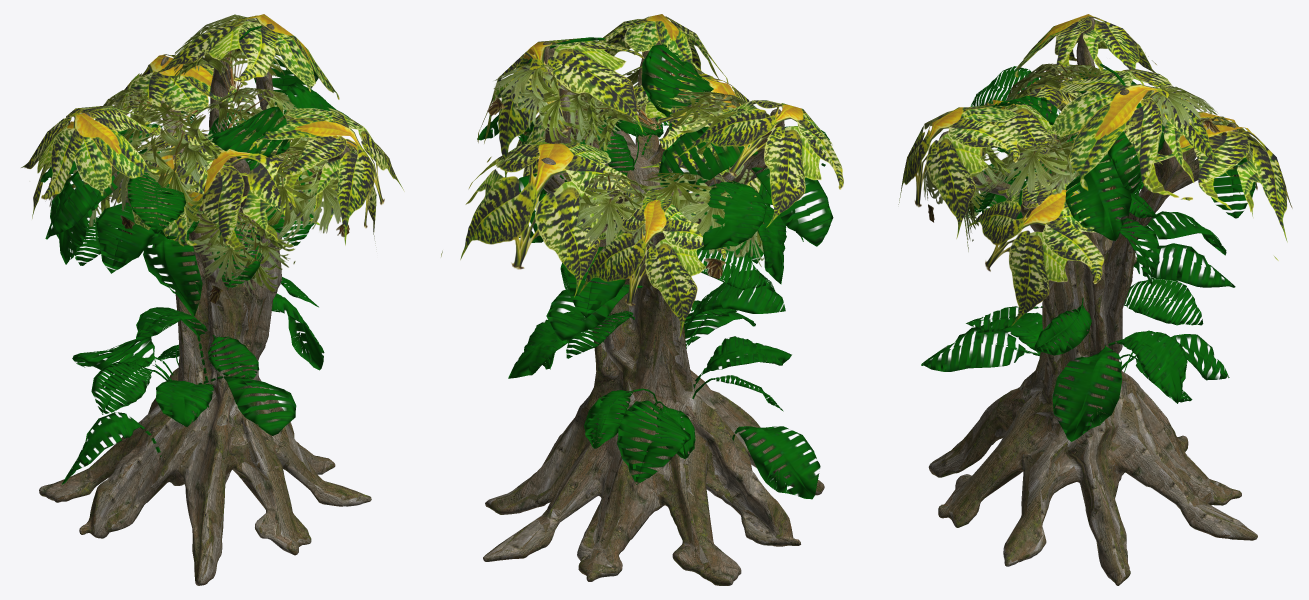
File: low.poly.world.tree.one.leaves2.glb
3 views of the same model, side by side, from view 1: azimuth 30°, elevation 25°; view 2: azimuth 150°, elevation 25°; view 3: azimuth 270°, elevation 25° (orthographic). The views are drawn at different scales.
Visible parts, largest first — view 1: BézierCurve.001, leaves.006, leaves.003, leaves.020, leaves.008, leaves.004, leaves.018, leaves.001, leaves.022, leaf_010_mesh.010, leaf_010_mesh.014, leaf_010_mesh.024 (+21 smaller); view 2: BézierCurve.001, leaves.001, leaves.005, leaves.003, leaves.004, leaves.019, leaf_010_mesh.028, leaf_010_mesh.022, leaves.017, leaves.021, leaves.006, leaf_010_mesh.019 (+20 smaller); view 3: BézierCurve.001, leaves.004, leaves.002, leaves.006, leaves.001, leaf_010_mesh.038, leaves.003, leaf_010_mesh.002, leaves.024, leaf_010_mesh.037, leaf_010_mesh.024, leaf_010_mesh.029 (+17 smaller).
Part boxes in pixels (<box>): BézierCurve.001: <box>39,23,371,585</box>; leaves.006: <box>256,107,404,245</box>; leaves.003: <box>21,105,160,199</box>; leaves.020: <box>109,99,230,234</box>; leaves.008: <box>178,134,319,250</box>; leaves.004: <box>143,14,339,99</box>; leaves.018: <box>185,208,297,303</box>; leaves.001: <box>114,54,253,125</box>; leaves.022: <box>265,146,349,243</box>; leaf_010_mesh.010: <box>143,211,203,316</box>; leaf_010_mesh.014: <box>95,202,199,273</box>; leaf_010_mesh.024: <box>198,376,296,435</box>; BézierCurve.001: <box>483,41,824,585</box>; leaves.001: <box>441,138,634,297</box>; leaves.005: <box>578,188,726,337</box>; leaves.003: <box>678,100,843,227</box>; leaves.004: <box>477,38,644,177</box>; leaves.019: <box>487,62,606,141</box>; leaf_010_mesh.028: <box>732,426,820,499</box>; leaf_010_mesh.022: <box>617,400,690,484</box>; leaves.017: <box>635,171,764,278</box>; leaves.021: <box>553,172,653,251</box>; leaves.006: <box>598,14,728,82</box>; leaf_010_mesh.019: <box>700,181,766,249</box>; BézierCurve.001: <box>928,17,1257,585</box>; leaves.004: <box>1046,69,1229,197</box>; leaves.002: <box>967,172,1104,325</box>; leaves.006: <box>898,104,1023,238</box>; leaves.001: <box>1154,124,1292,260</box>; leaf_010_mesh.038: <box>1052,345,1121,441</box>; leaves.003: <box>1014,14,1156,85</box>; leaf_010_mesh.002: <box>1065,153,1131,240</box>; leaves.024: <box>983,137,1109,204</box>; leaf_010_mesh.037: <box>1108,330,1187,403</box>; leaf_010_mesh.024: <box>921,326,1040,371</box>; leaf_010_mesh.029: <box>1124,278,1203,325</box>.
Bounding box in the file's own units: 9.66 × 13.09 × 10.02.
Materials: 5 (5 with a texture image).
